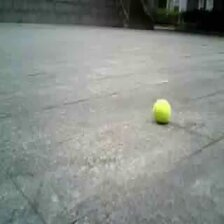tennis: (153, 101, 171, 121)
